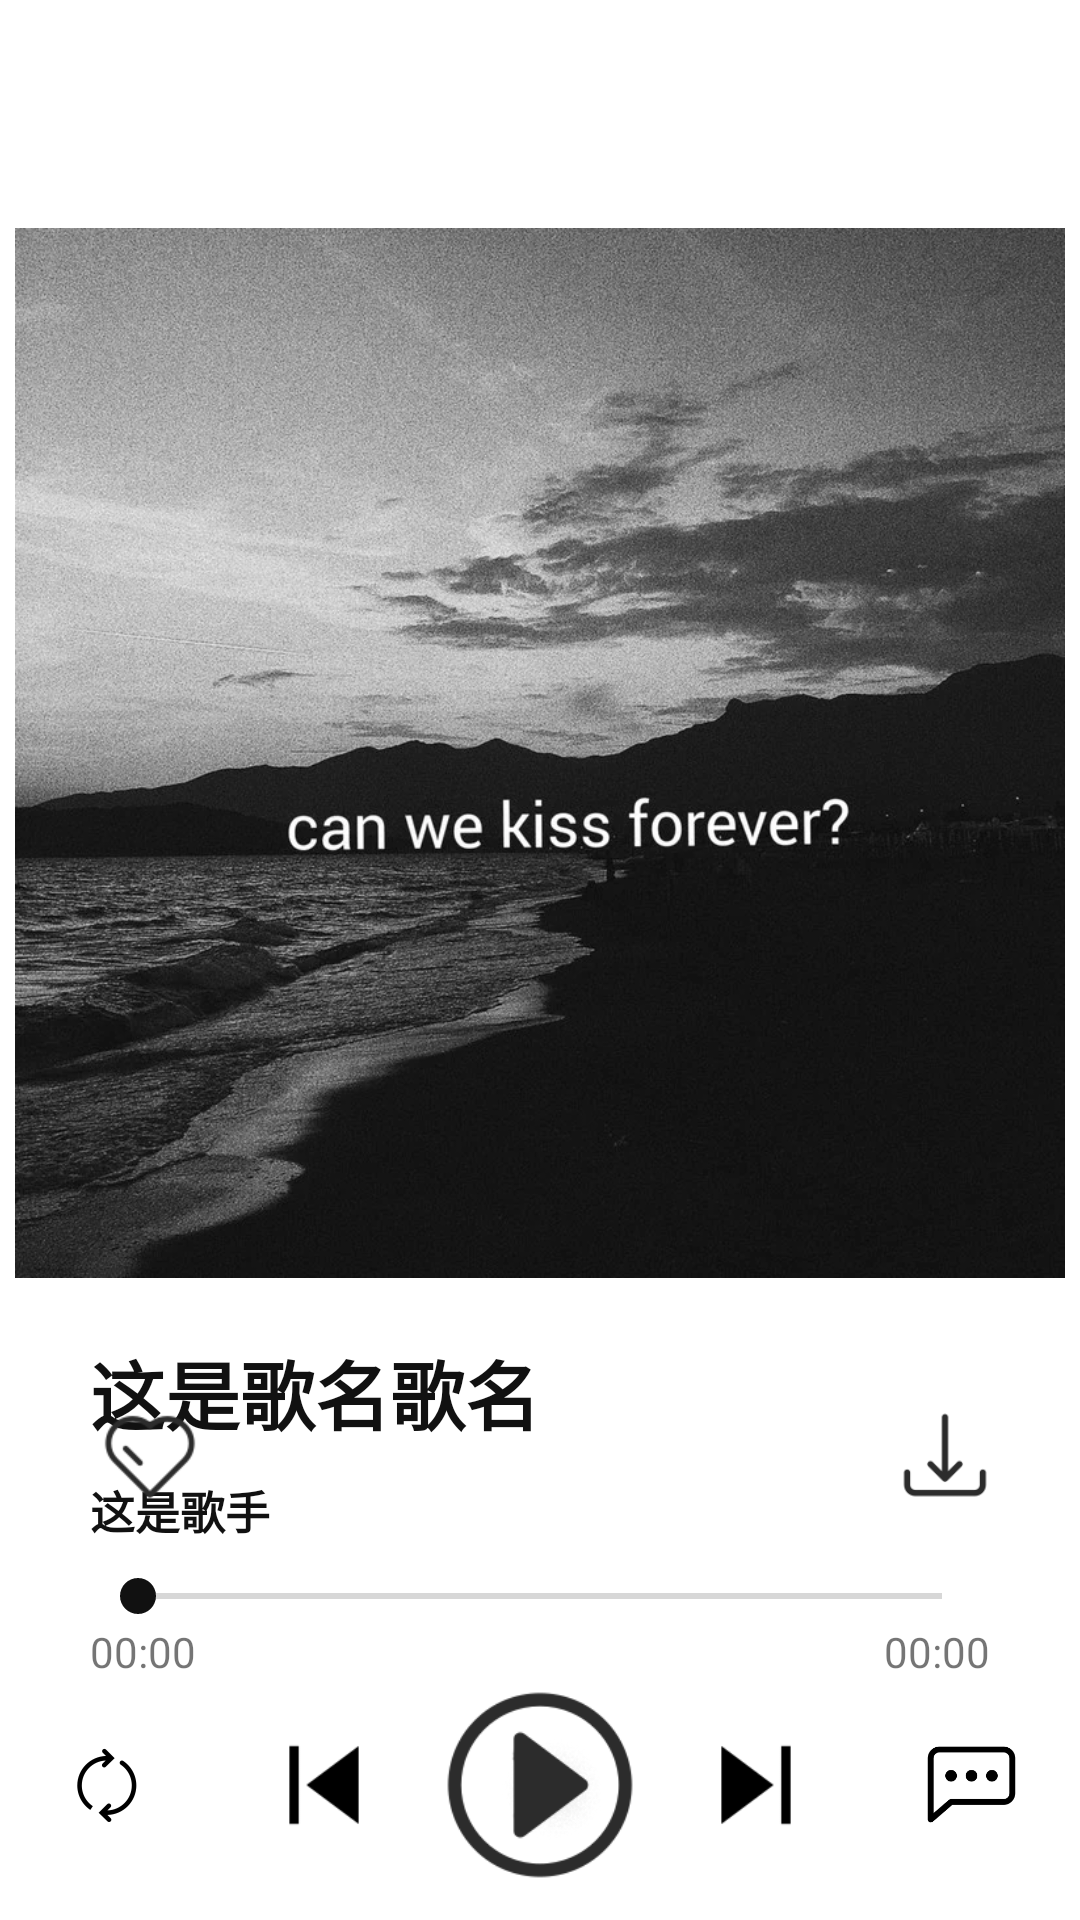

Icon bounding boxes for this 1080 × 1920 phone screenshot, format (x1, y1, x2, y2):
last: (289, 1745, 359, 1825)
message: (927, 1746, 1016, 1823)
next: (721, 1745, 791, 1825)
shunxu: (77, 1749, 137, 1822)
start: (447, 1692, 633, 1878)
zzxiazai: (903, 1413, 987, 1497)
